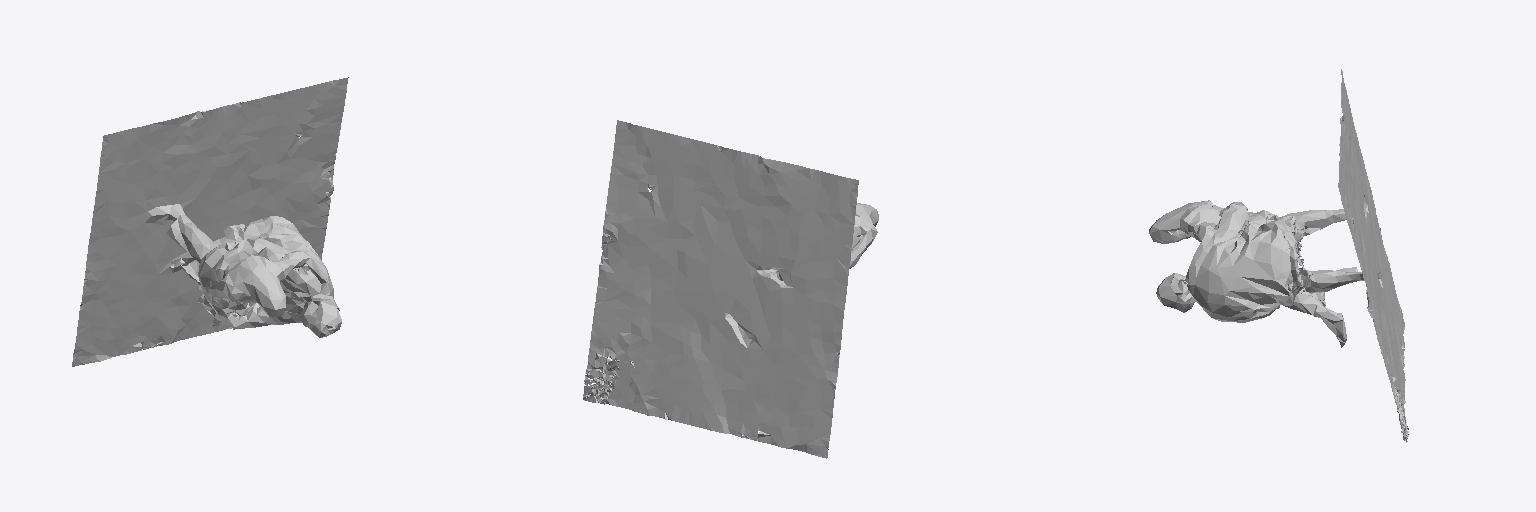
File: igor-yana2.obj
3 views of the same model, side by side, from view 1: azimuth 30°, elevation 25°; view 2: azimuth 150°, elevation 25°; view 3: azimuth 270°, elevation 25° (orthographic).
Bounding box in the file's own units: 1.8 × 1.8 × 1.67.